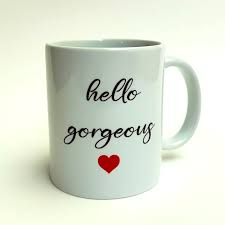mug: (32, 28, 212, 216)
